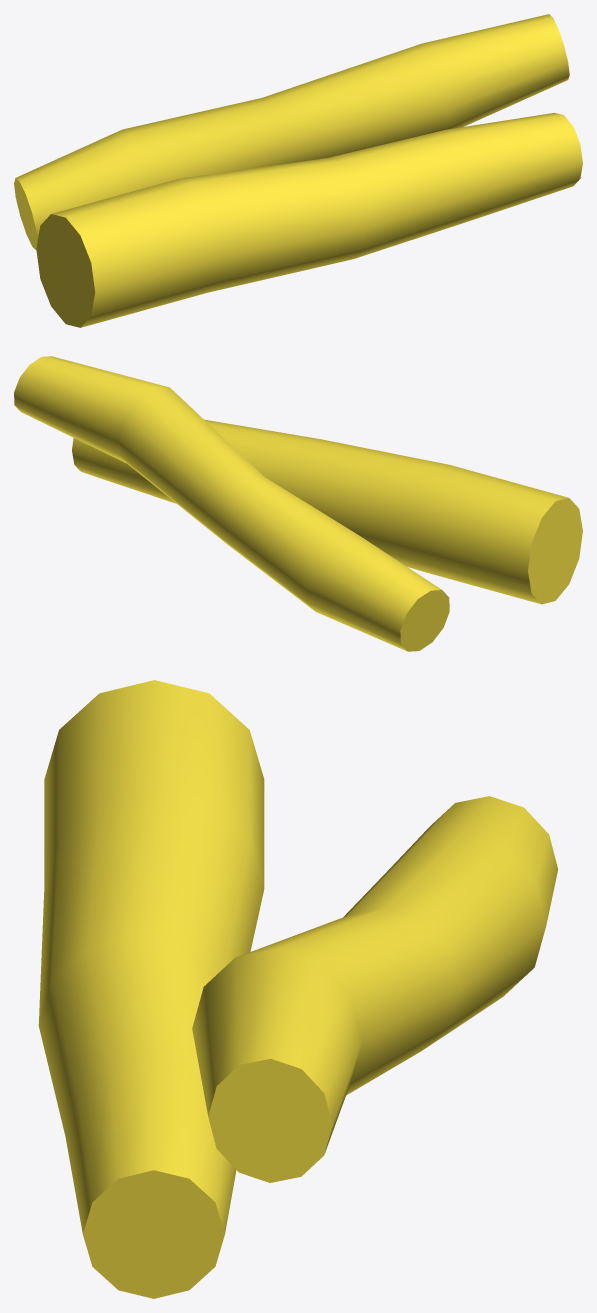
Rendered from PEYEUM.FBX.
The picture shows the model from 3 angles, top to bottom: view 1: azimuth 30°, elevation 25°; view 2: azimuth 150°, elevation 25°; view 3: azimuth 270°, elevation 25°; orthographic projection. The views are drawn at different scales.
Visible parts, largest first — view 1: peuyeum; view 2: peuyeum; view 3: peuyeum.
Part boxes in pixels (x1=…): peuyeum: x1=14, y1=14, x2=582, y2=327; peuyeum: x1=14, y1=356, x2=582, y2=651; peuyeum: x1=38, y1=680, x2=557, y2=1298.
Size of the model in its own units: 56.79 by 16.18 by 25.62.
